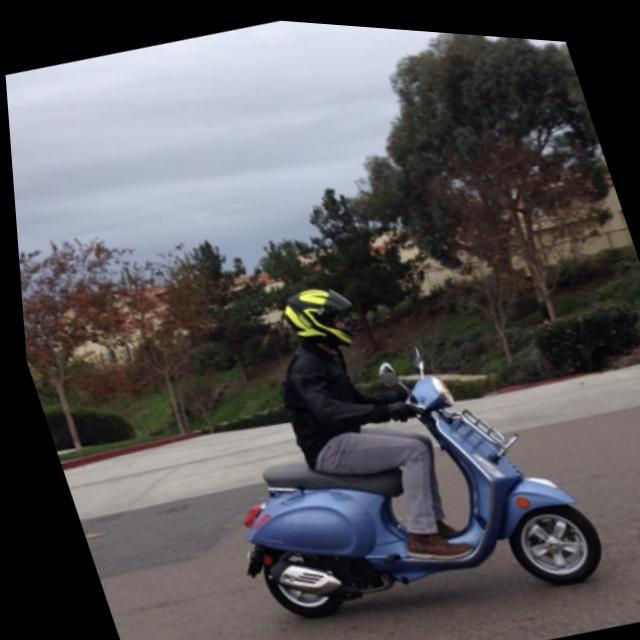Helmet: (277, 276, 362, 351)
